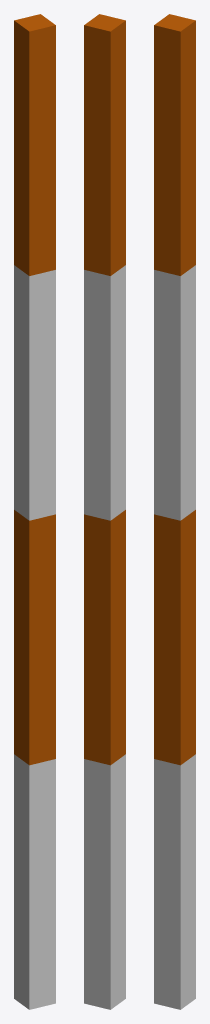
The model's file is measure_pole.fbx.
3 renders of one model, left to right at view 1: azimuth 30°, elevation 25°; view 2: azimuth 150°, elevation 25°; view 3: azimuth 330°, elevation 25°, orthographic.
Parts seen in each view (by area): view 1: pCylinder239; view 2: pCylinder239; view 3: pCylinder239.
Boxes of the visible parts, x1,y1,x2,y2 form: pCylinder239: [14, 14, 55, 1009]; pCylinder239: [84, 14, 125, 1009]; pCylinder239: [154, 14, 195, 1009].
Bounding box in the file's own units: 0.0283 × 1 × 0.0283.
